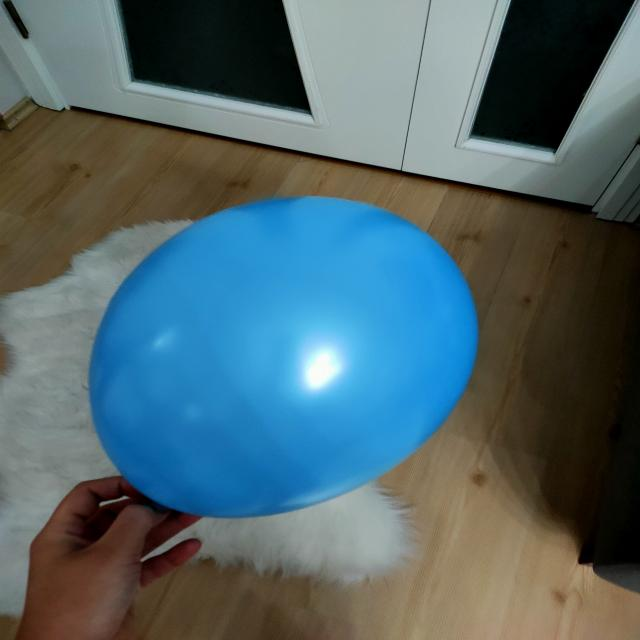blue: (92, 195, 477, 520)
